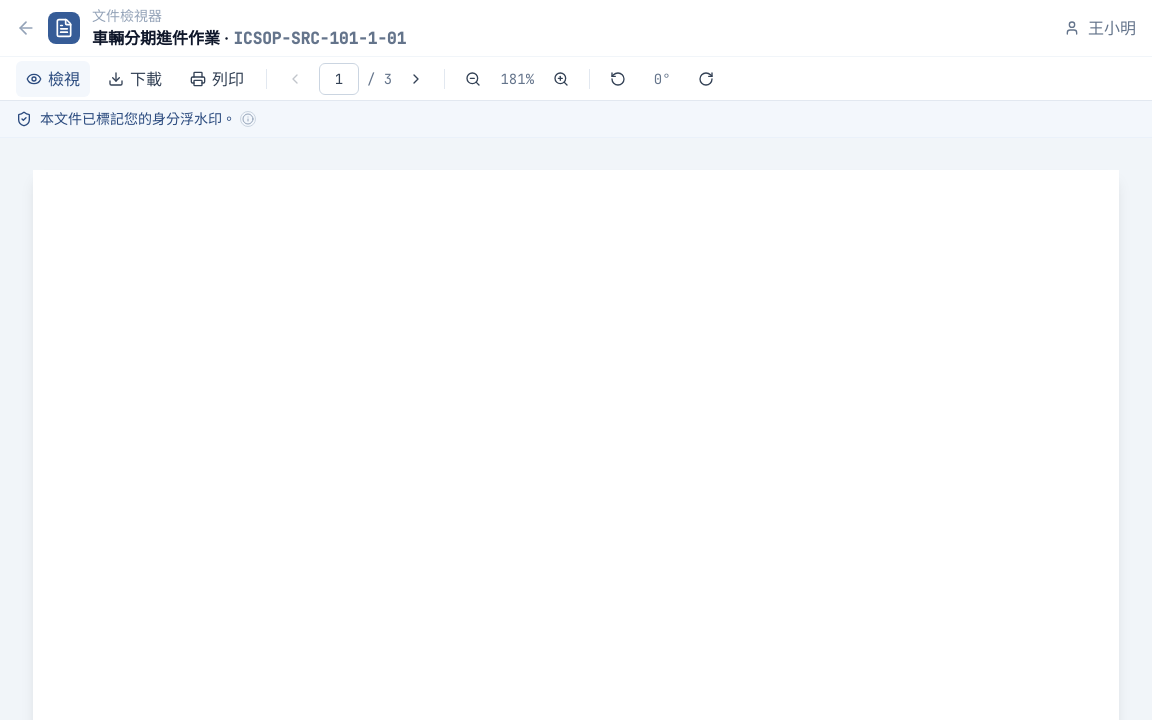
it: PublicViewerPage — 逐頁旋轉（2026-08-26 UX ①） › 左旋於 0° 時折回 270°（負角不外洩到 pdf.js）
The width and height of the screenshot is (1164, 720).
Click the button named "向左旋轉 90 度". click: (618, 78)
box: [602,62,634,94]
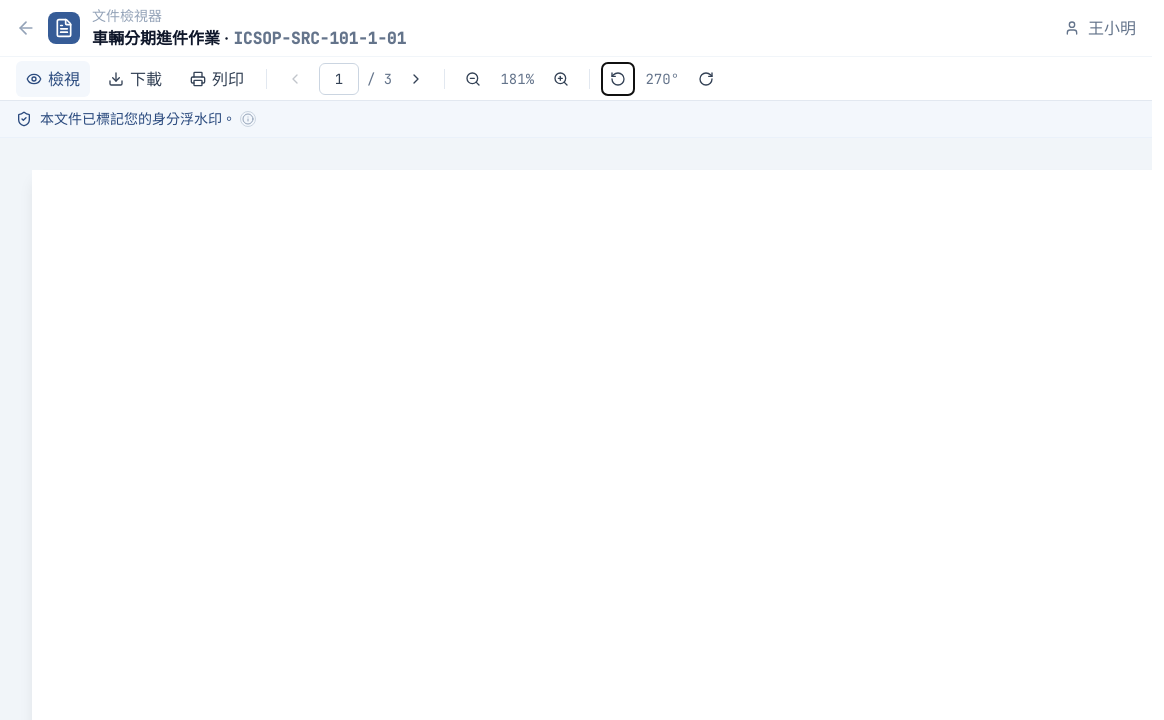
Now the text with test id "rotate-label" reads "270°", box [646,70,679,88]
